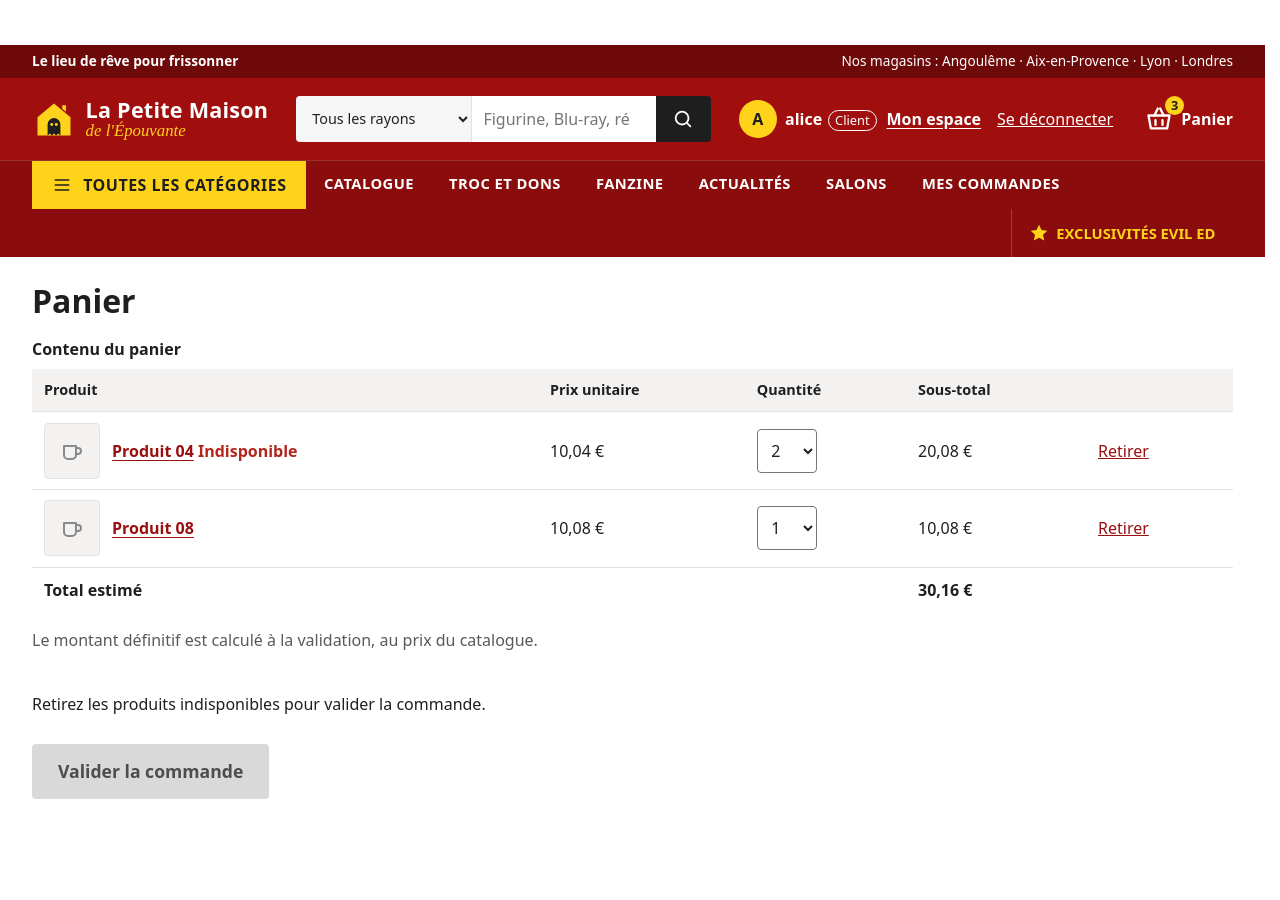
it: Revalidation du panier › signale un produit devenu indisponible et bloque la validation
(page scrolled)
Expected: the heading "Panier" is shown, [32,279,136,322]
Expected: the text "Indisponible" is shown, [194,440,298,462]
Click the button named "Retirer « Produit 04 » du panier": (1123, 450) [1094,434,1153,466]
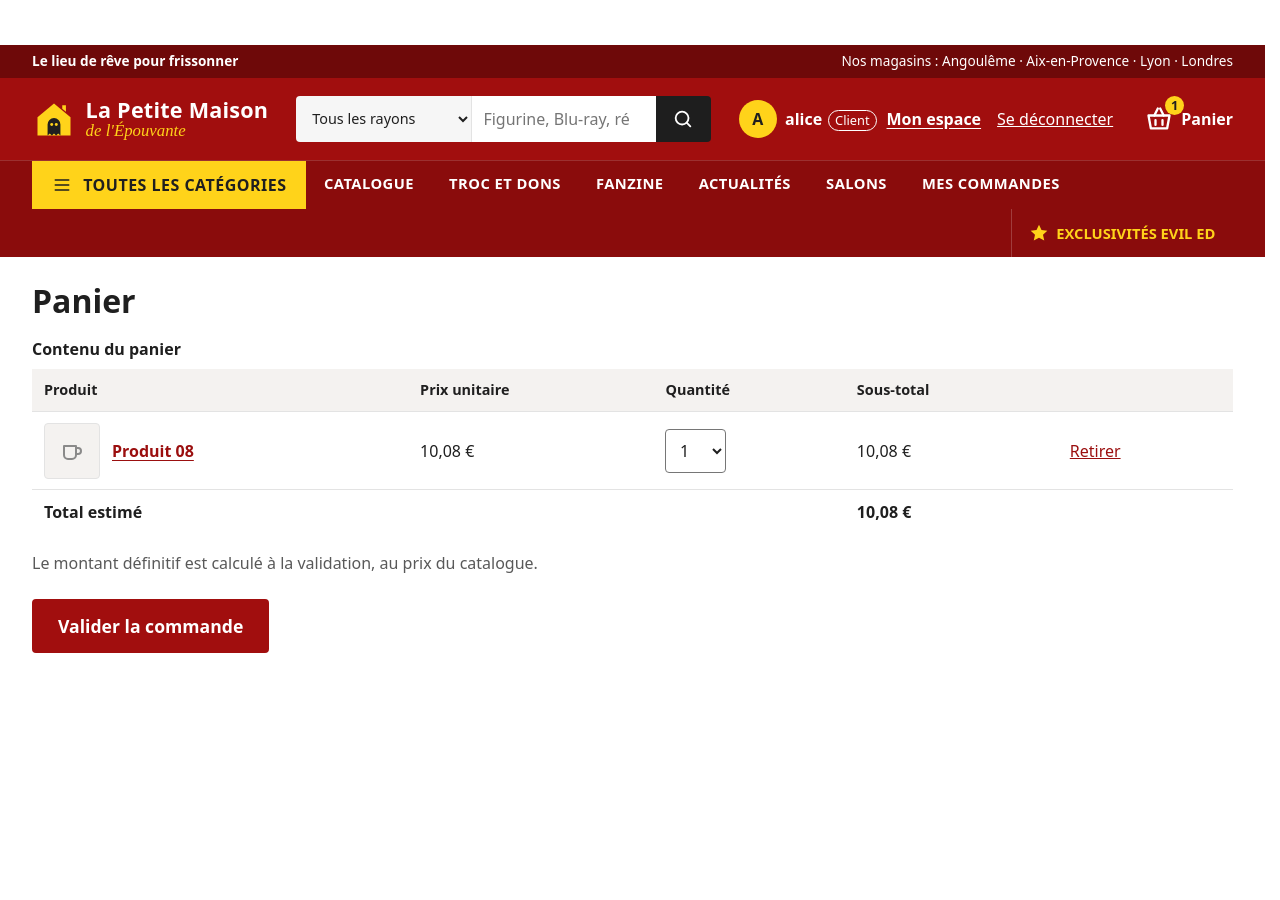
Result: the button "Valider la commande" is enabled at [32,599,269,653]
